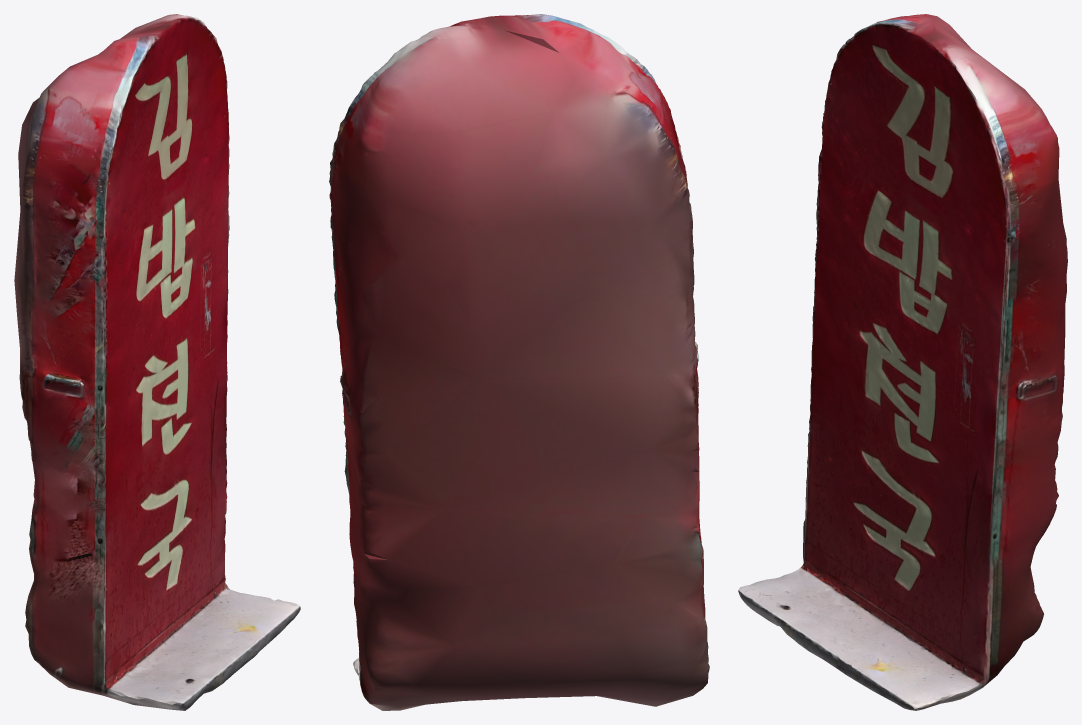
The model's file is sign2.gltf.
3 views of the same model, side by side, from view 1: azimuth 30°, elevation 25°; view 2: azimuth 150°, elevation 25°; view 3: azimuth 270°, elevation 25° (orthographic). The views are drawn at different scales.
Parts seen in each view (by area): view 1: Default; view 2: Default; view 3: Default.
Part boxes in pixels (<box>): Default: <box>14,14,300,710</box>; Default: <box>329,14,709,710</box>; Default: <box>738,14,1067,710</box>.
Bounding box in the file's own units: 0.0038 × 0.00775 × 0.00371.
Materials: 1 (1 with a texture image).
